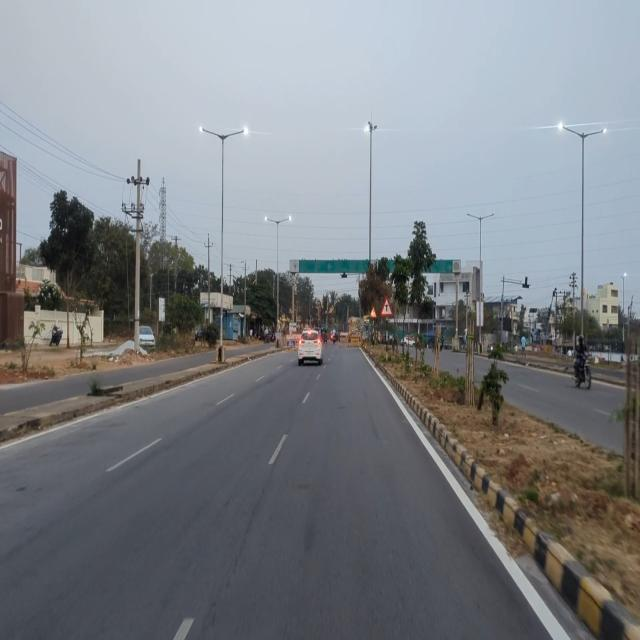bien_cam: (379, 296, 394, 320), (367, 301, 378, 318)
